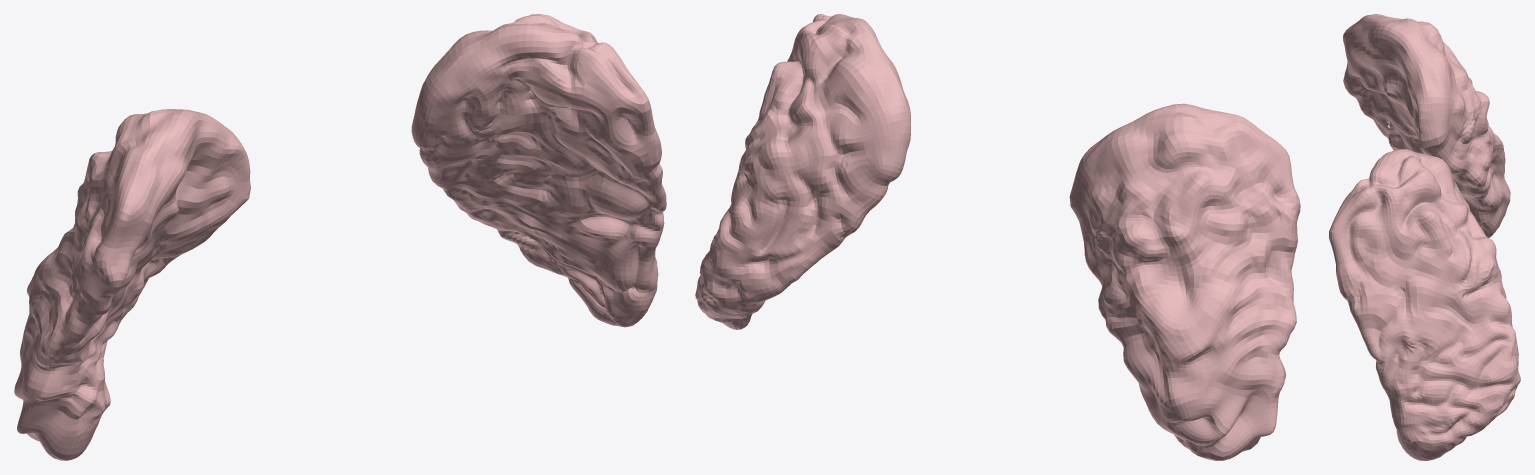
The model's file is palatine-tonsils.glb.
The picture shows the model from 3 angles, left to right: view 1: azimuth 30°, elevation 25°; view 2: azimuth 150°, elevation 25°; view 3: azimuth 270°, elevation 25°; orthographic projection. The views are drawn at different scales.
Parts seen in each view (by area): view 1: VH_F_palatine_tonsil_L, VH_F_palatine_tonsil_R; view 2: VH_F_palatine_tonsil_R, VH_F_palatine_tonsil_L; view 3: VH_F_palatine_tonsil_L, VH_F_palatine_tonsil_R.
Part boxes in pixels (box(x1,y1,x2,y2)): VH_F_palatine_tonsil_L: box(411, 14, 666, 327); VH_F_palatine_tonsil_R: box(14, 109, 250, 460); VH_F_palatine_tonsil_R: box(1069, 103, 1300, 460); VH_F_palatine_tonsil_L: box(695, 14, 910, 329); VH_F_palatine_tonsil_L: box(1329, 149, 1520, 460); VH_F_palatine_tonsil_R: box(1343, 14, 1510, 237).
Size of the model in its own units: 0.0462 by 0.0243 by 0.0159.
